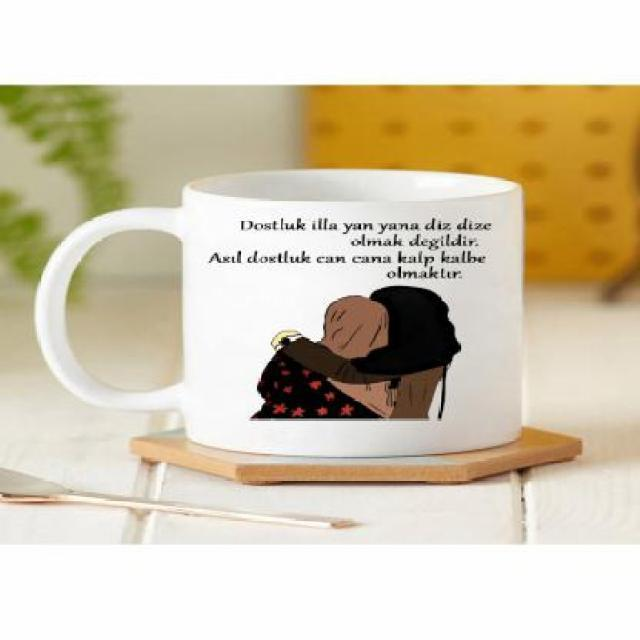taza: (35, 168, 526, 454)
